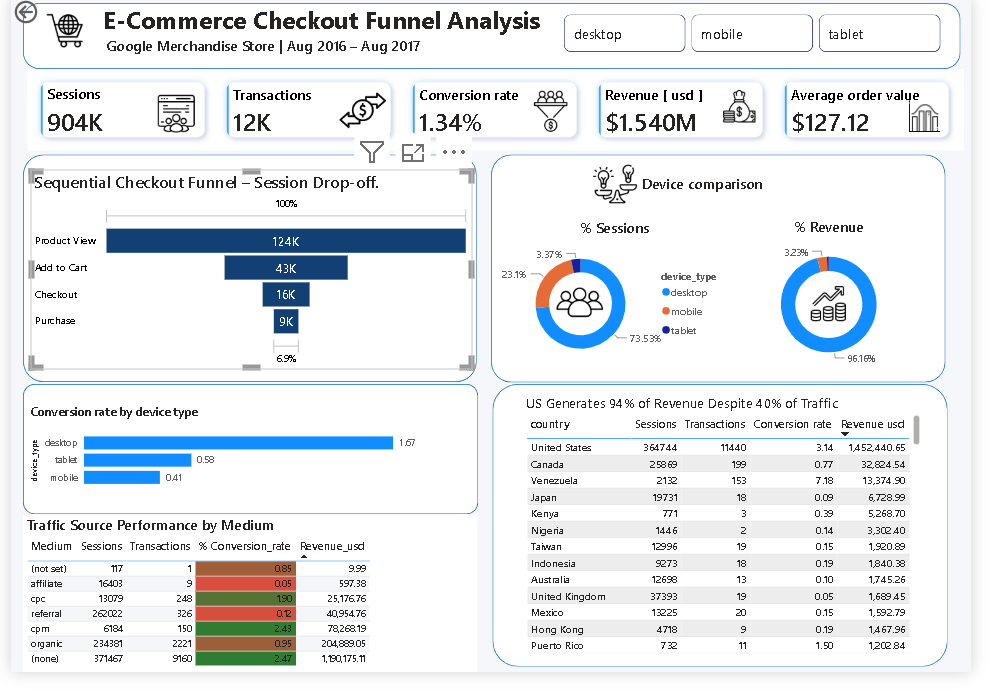

What the dashboard file says about the page in this screenshot:
{"tool":"powerbi","page":{"name":"Page 1","canvas":[1280,900],"ordinal":0},"visuals":[{"type":"shape","box":[16,712,368,176],"z":0},{"type":"shape","box":[16,530,716,168],"z":1000},{"type":"shape","box":[16.7,210.8,605,303.3],"z":2000},{"type":"shape","box":[640,210,606,304],"z":3000},{"type":"shape","box":[16,8,1250,88],"z":4000},{"type":"cardVisual","fields":{"Data":["Sum(kpi.total_sessions)","Sum(kpi.total_transactions)","Sum(kpi.conversion_rate_pct)","Sum(kpi.total_revenue_usd)","Sum(kpi.avg_order_value)"]},"box":[21.7,96.7,1248.3,108.3],"z":5000},{"type":"textbox","box":[118,8,614,88],"z":6000},{"type":"funnel","title":"Checkout Funnel — Where Are We Losing Users?","fields":{"Category":["funnel.funnel_step"],"Y":["Sum(funnel.users)"]},"box":[25,230,590,266.7],"z":7000},{"type":"actionButton","box":[0,0,100,40],"z":8000},{"type":"donutChart","title":"% Sessions","fields":{"Y":["Sum(device.total_sessions)"],"Category":["device.device_type"]},"box":[646,294,316,204],"z":9000},{"type":"donutChart","title":"% Revenue","fields":{"Category":["device.device_type"],"Y":["Sum(device.revenue_usd)"]},"box":[961.7,291.7,256,210],"z":10000},{"type":"tableEx","title":"Traffic Drives Highest Quality Conversions","fields":{"Values":["traffic.traffic_medium","Sum(traffic.total_sessions)","Sum(traffic.transactions)","Sum(traffic.conversion_rate_pct)","Sum(traffic.revenue_usd)"]},"box":[384,712,374,188],"z":11000},{"type":"clusteredBarChart","title":"Three Fixes Worth $1.4M in Recovered Revenue","fields":{"Category":["opportunity.opportunity"],"Y":["Sum(opportunity.revenue_opportunity_usd)"]},"box":[36,554,682,136],"z":12000},{"type":"tableEx","title":"US Generates 94% of Revenue Despite 40% of Traffic","fields":{"Values":["geography.country","Sum(geography.total_sessions)","Sum(geography.transactions)","Sum(geography.conversion_rate_pct)","Sum(geography.revenue_usd)"]},"box":[758,528,522,360],"z":13000},{"type":"textbox","box":[836.7,230,211.7,38.3],"z":14000},{"type":"treemap","title":"Conversion rate by device type","fields":{"Group":["device.device_type"],"Values":["Sum(device.conversion_rate_pct)"]},"box":[20,720,358,158],"z":15000},{"type":"image","box":[16.7,20,111.7,50],"z":16000},{"type":"image","box":[723.3,376.7,68.3,61.7],"z":17000},{"type":"image","box":[1046.7,383.3,86.7,50],"z":18000},{"type":"image","box":[438.3,116.7,61.7,70],"z":19000},{"type":"image","box":[645,123.3,146.7,56.7],"z":20000},{"type":"image","box":[920,123.3,101.7,43.3],"z":21000},{"type":"image","box":[1171.7,138.3,91.7,41.7],"z":22000},{"type":"image","box":[158.3,123.3,125,63.3],"z":23000},{"type":"image","box":[765,220,78.3,58.3],"z":24000},{"type":"image","box":[92,530,66,54],"z":25000},{"type":"advancedSlicerVisual","title":"Device type","fields":{"Values":["device.device_type"]},"box":[731.7,18.3,513.3,60],"z":26000}]}

Visuals, with their boxes in screenshot pixels (x1, y1, x2, y2), scaled from the page's 1280x900 canvas onto the 993x693 screenshot:
shape: bbox=(12, 548, 298, 684)
shape: bbox=(12, 408, 568, 537)
shape: bbox=(13, 162, 482, 396)
shape: bbox=(496, 162, 967, 396)
shape: bbox=(12, 6, 982, 74)
cardVisual - Sum(kpi.total_sessions) x Sum(kpi.total_transactions): bbox=(17, 74, 985, 158)
textbox: bbox=(92, 6, 568, 74)
"Checkout Funnel — Where Are We Losing Users?" funnel: bbox=(19, 177, 477, 382)
actionButton: bbox=(0, 0, 78, 31)
"% Sessions" donutChart: bbox=(501, 226, 746, 383)
"% Revenue" donutChart: bbox=(746, 225, 945, 386)
"Traffic Drives Highest Quality Conversions" tableEx: bbox=(298, 548, 588, 692)
"Three Fixes Worth $1.4M in Recovered Revenue" clusteredBarChart: bbox=(28, 427, 557, 531)
"US Generates 94% of Revenue Despite 40% of Traffic" tableEx: bbox=(588, 407, 992, 684)
textbox: bbox=(649, 177, 813, 207)
"Conversion rate by device type" treemap: bbox=(16, 554, 293, 676)
image: bbox=(13, 15, 100, 54)
image: bbox=(561, 290, 614, 338)
image: bbox=(812, 295, 879, 334)
image: bbox=(340, 90, 388, 144)
image: bbox=(500, 95, 614, 139)
image: bbox=(714, 95, 793, 128)
image: bbox=(909, 106, 980, 139)
image: bbox=(123, 95, 220, 144)
image: bbox=(593, 169, 654, 214)
image: bbox=(71, 408, 123, 450)
"Device type" advancedSlicerVisual: bbox=(568, 14, 966, 60)
